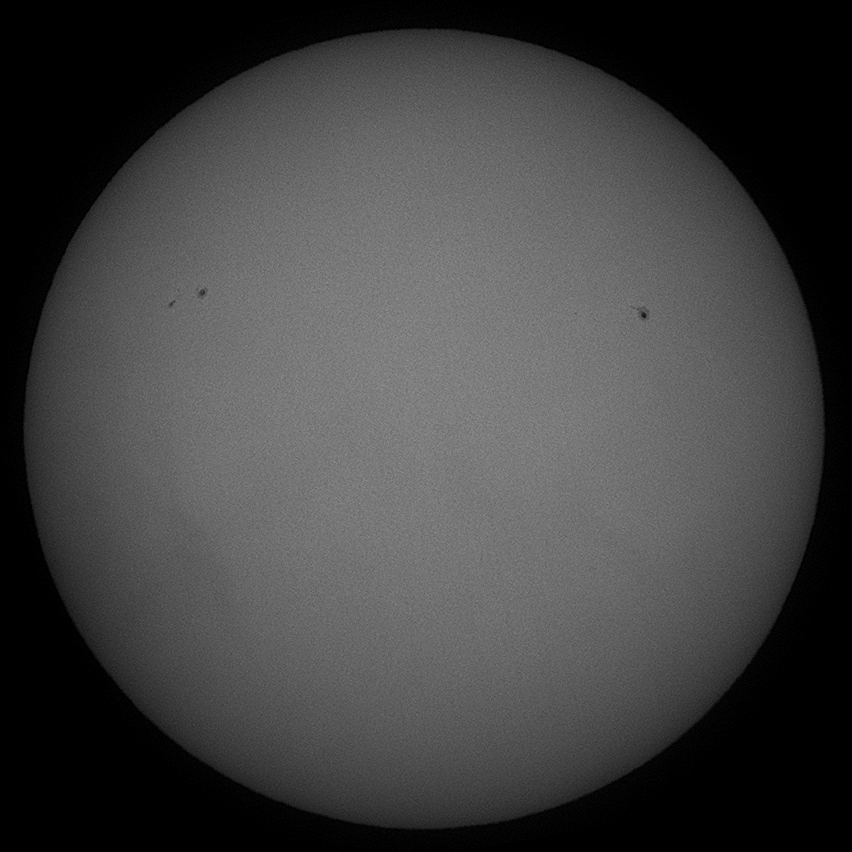sunspot: (628, 297, 655, 325), (161, 294, 181, 311), (192, 284, 212, 301)
